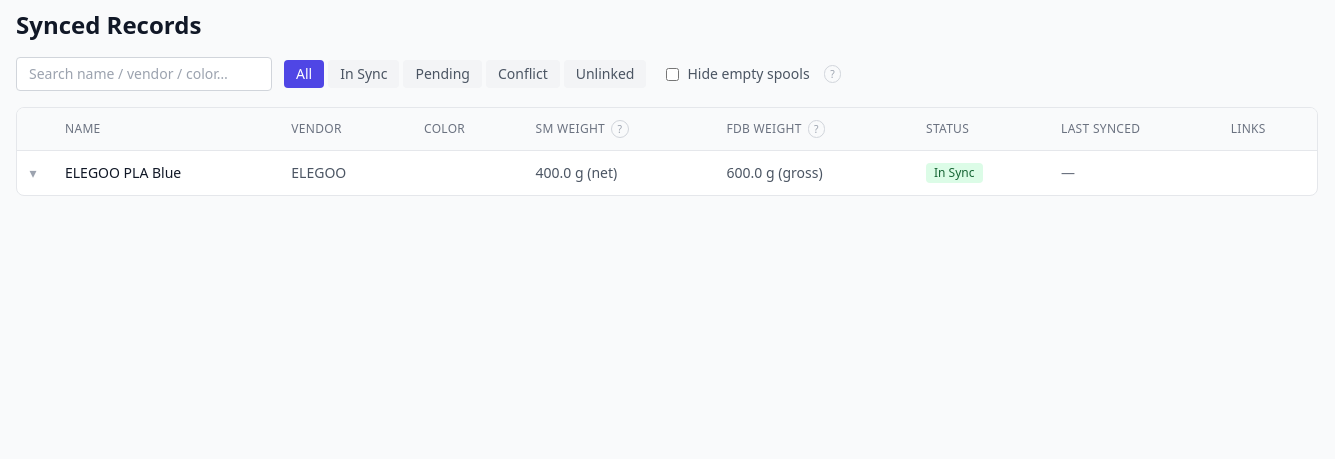
Scenario: SyncedRecords — Unlink action › shows error message when deleteMapping rejects
Click the text "ELEGOO PLA Blue".
click(162, 172)  # box top-left (49, 150), bottom-right (275, 195)
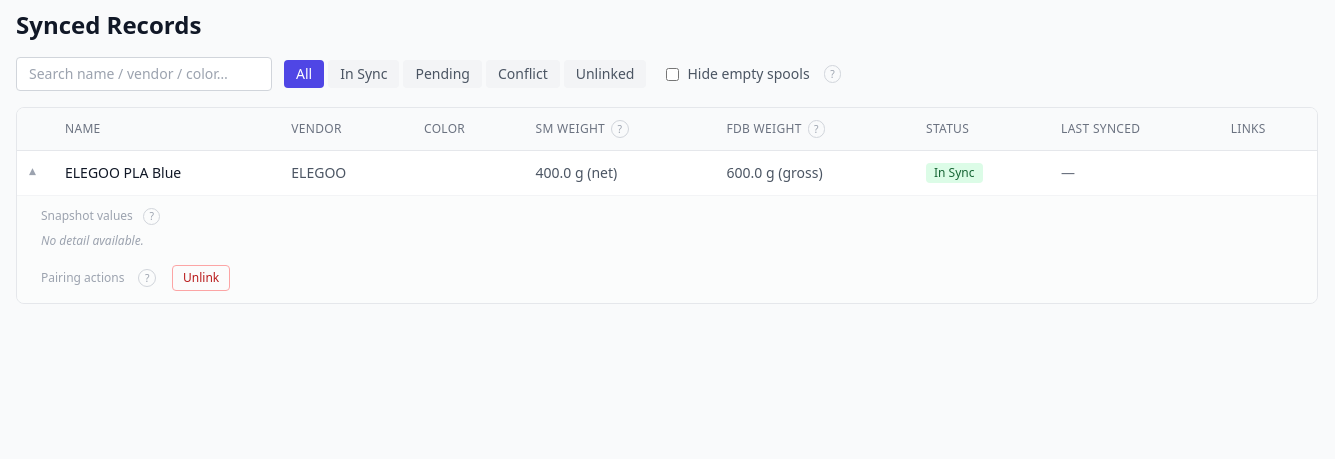
Click the button "Unlink".
click(201, 278)  # box top-left (172, 265), bottom-right (230, 291)
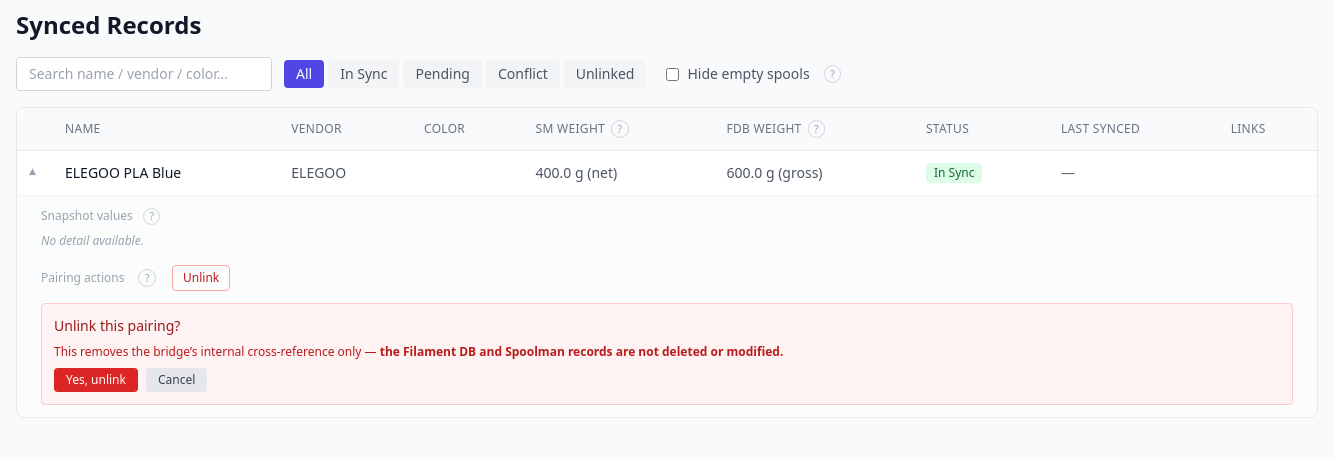
Click the button "Yes, unlink".
click(96, 380)  # box top-left (54, 368), bottom-right (138, 392)
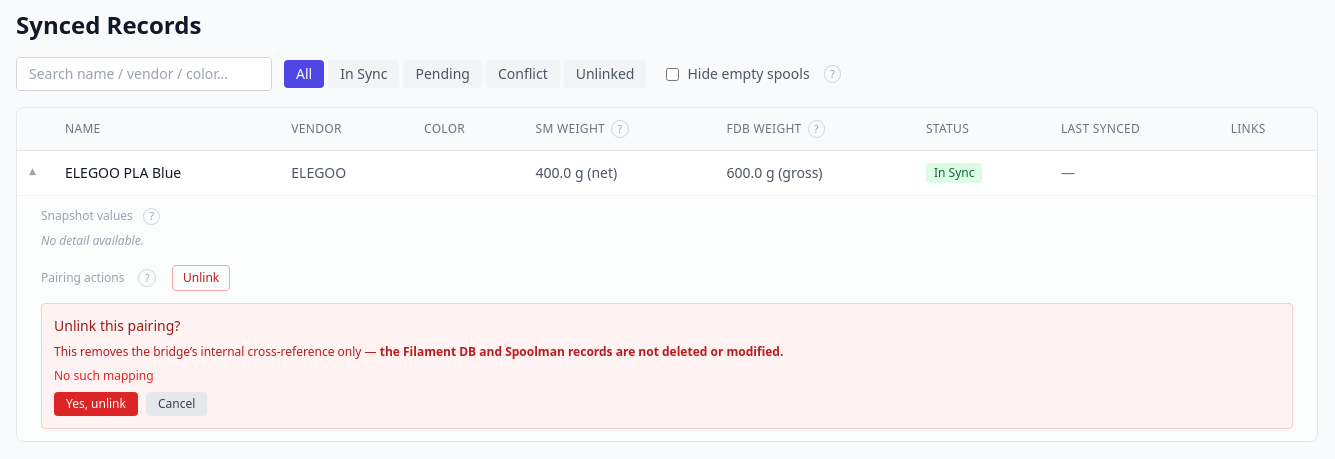
Now the text "No such mapping" is shown, box top-left (54, 367), bottom-right (154, 384)
